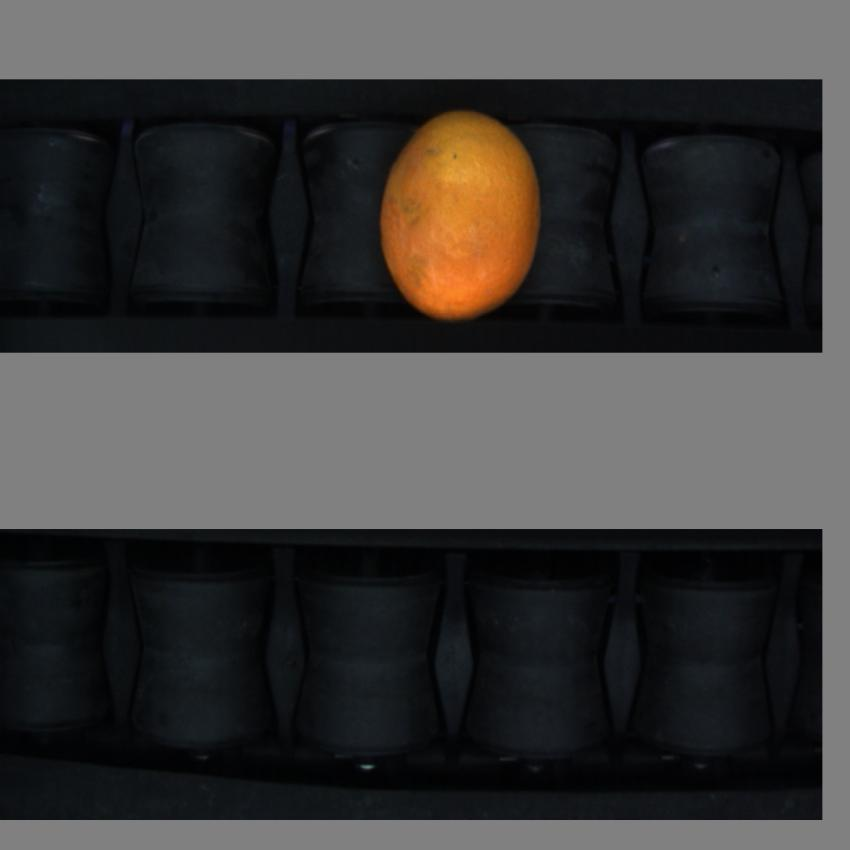Buen estado: (373, 100, 543, 318)
